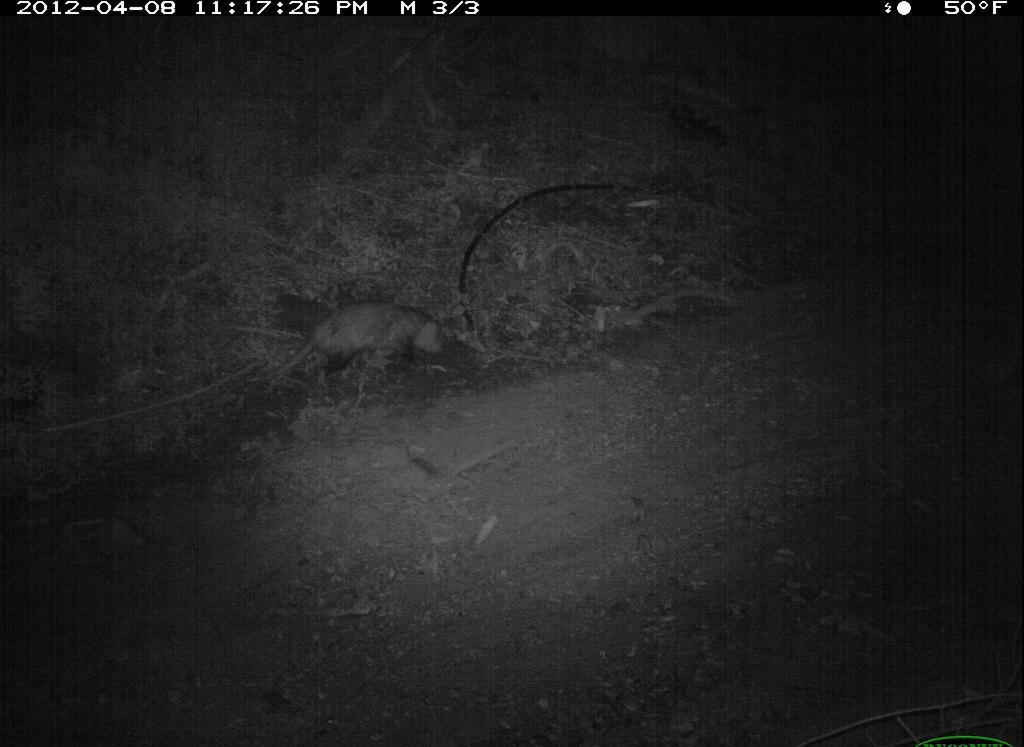opossum: (257, 306, 450, 392)
